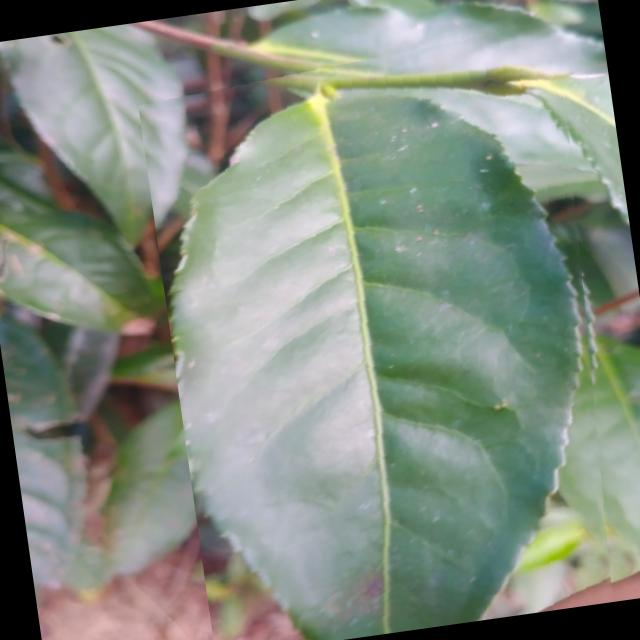Category D(7+ days, Not for Tea): (135, 21, 639, 640)
